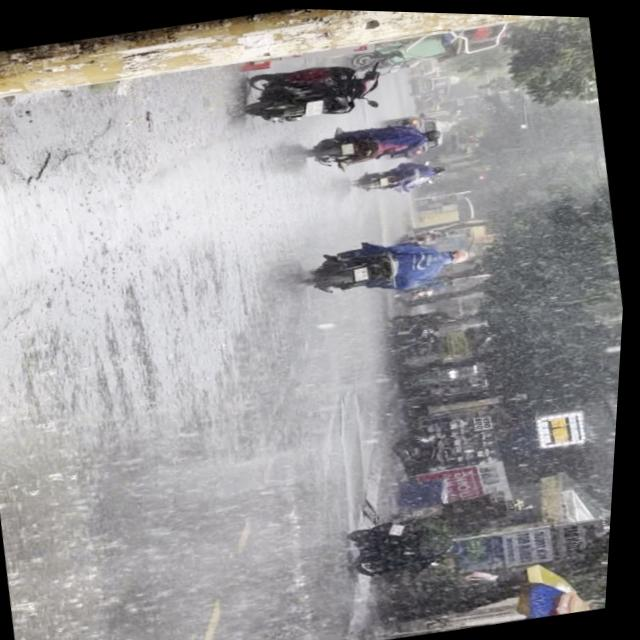helmet: (449, 244, 474, 262)
licenseplate: (300, 222, 480, 307)
nohelmet: (356, 266, 373, 280)
